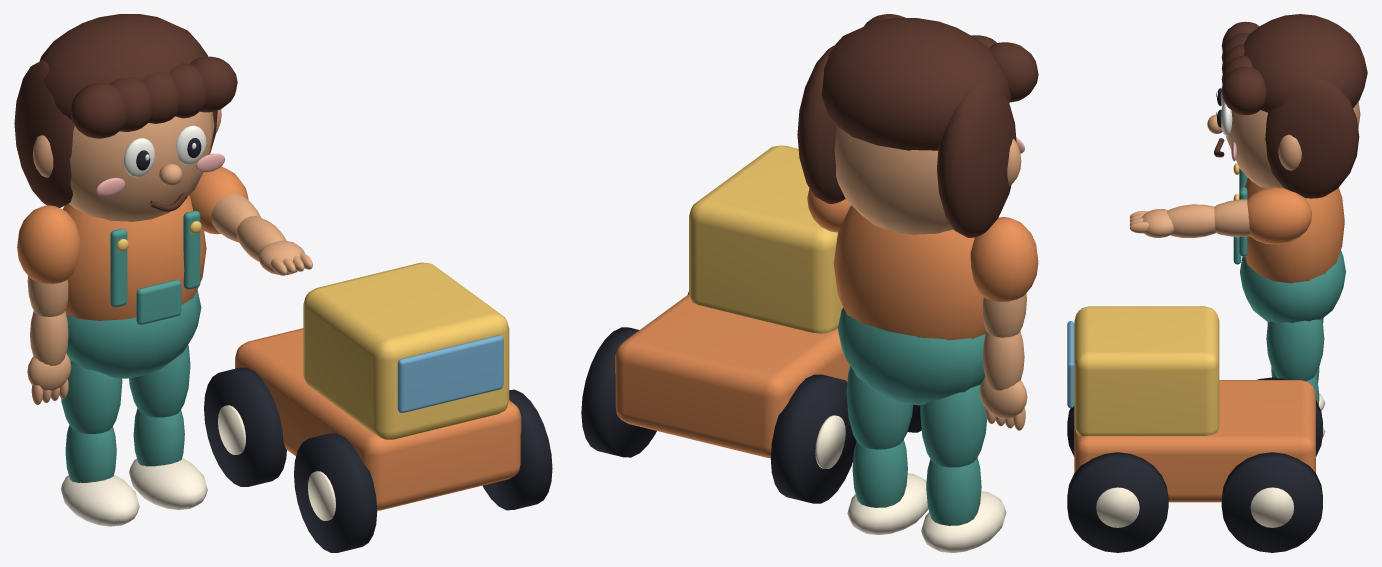
File: ava-need-stop.glb
3 views of the same model, side by side, from view 1: azimuth 30°, elevation 25°; view 2: azimuth 150°, elevation 25°; view 3: azimuth 270°, elevation 25° (orthographic). The views are drawn at different scales.
Visible parts, largest first — view 1: cabin, vehicle body, soft shirt, hair cap, clay head, rubber wheel, overalls, rubber wheel.001, windshield, bob hair, shirt sleeve, rubber wheel.002 (+26 smaller); view 2: vehicle body, cabin, hair cap, soft shirt, bob hair, overalls, clay head, rubber wheel.001, rubber wheel.003, shirt sleeve, trouser leg, bob hair.001 (+11 smaller); view 3: cabin, vehicle body, bob hair.001, hair cap, rubber wheel.002, rubber wheel.003, soft shirt, overalls, trouser leg.001, shirt sleeve.001, clay head, fringe.004 (+8 smaller).
Part boxes in pixels (x1=…): cabin: x1=303, y1=262, x2=509, y2=439; vehicle body: x1=235, y1=328, x2=521, y2=510; soft shirt: x1=63, y1=195, x2=206, y2=320; hair cap: x1=40, y1=14, x2=207, y2=119; clay head: x1=69, y1=111, x2=214, y2=221; rubber wheel: x1=294, y1=433, x2=377, y2=552; overalls: x1=66, y1=290, x2=201, y2=378; rubber wheel.001: x1=204, y1=367, x2=286, y2=486; windshield: x1=397, y1=335, x2=503, y2=412; bob hair: x1=14, y1=60, x2=74, y2=207; shirt sleeve: x1=17, y1=205, x2=79, y2=283; rubber wheel.002: x1=483, y1=389, x2=552, y2=510; vehicle body: x1=615, y1=294, x2=849, y2=457; cabin: x1=689, y1=145, x2=842, y2=333; hair cap: x1=821, y1=18, x2=1011, y2=150; soft shirt: x1=833, y1=205, x2=986, y2=340; bob hair: x1=937, y1=82, x2=1016, y2=237; overalls: x1=837, y1=307, x2=985, y2=405; clay head: x1=834, y1=126, x2=953, y2=234; rubber wheel.001: x1=770, y1=374, x2=856, y2=503; rubber wheel.003: x1=581, y1=327, x2=656, y2=457; shirt sleeve: x1=970, y1=217, x2=1038, y2=301; trouser leg: x1=920, y1=382, x2=986, y2=467; bob hair.001: x1=797, y1=45, x2=845, y2=203; cabin: x1=1074, y1=306, x2=1219, y2=436; vehicle body: x1=1074, y1=380, x2=1315, y2=502; bob hair.001: x1=1265, y1=78, x2=1359, y2=198; hair cap: x1=1244, y1=14, x2=1367, y2=112; rubber wheel.002: x1=1067, y1=452, x2=1168, y2=552; rubber wheel.003: x1=1221, y1=452, x2=1322, y2=552; soft shirt: x1=1244, y1=178, x2=1344, y2=283; overalls: x1=1240, y1=250, x2=1345, y2=323; trouser leg.001: x1=1266, y1=319, x2=1324, y2=380; shirt sleeve.001: x1=1247, y1=187, x2=1311, y2=244; clay head: x1=1226, y1=102, x2=1360, y2=188; fringe.004: x1=1221, y1=66, x2=1266, y2=115.
Size of the model in its own units: 1.66 by 1.87 by 1.25.
